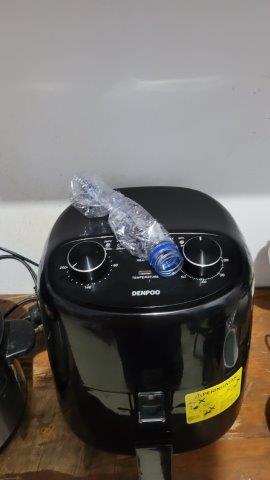botolplastik: (68, 175, 183, 272)
